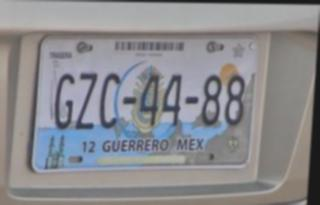License_Plate: (29, 30, 266, 175)
